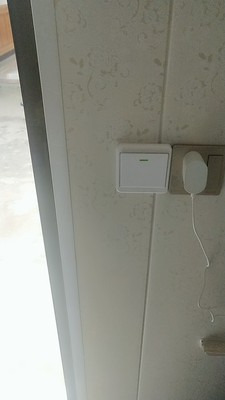switch: (118, 149, 171, 193)
